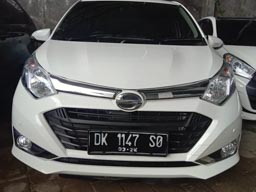plat: (89, 132, 166, 146)
